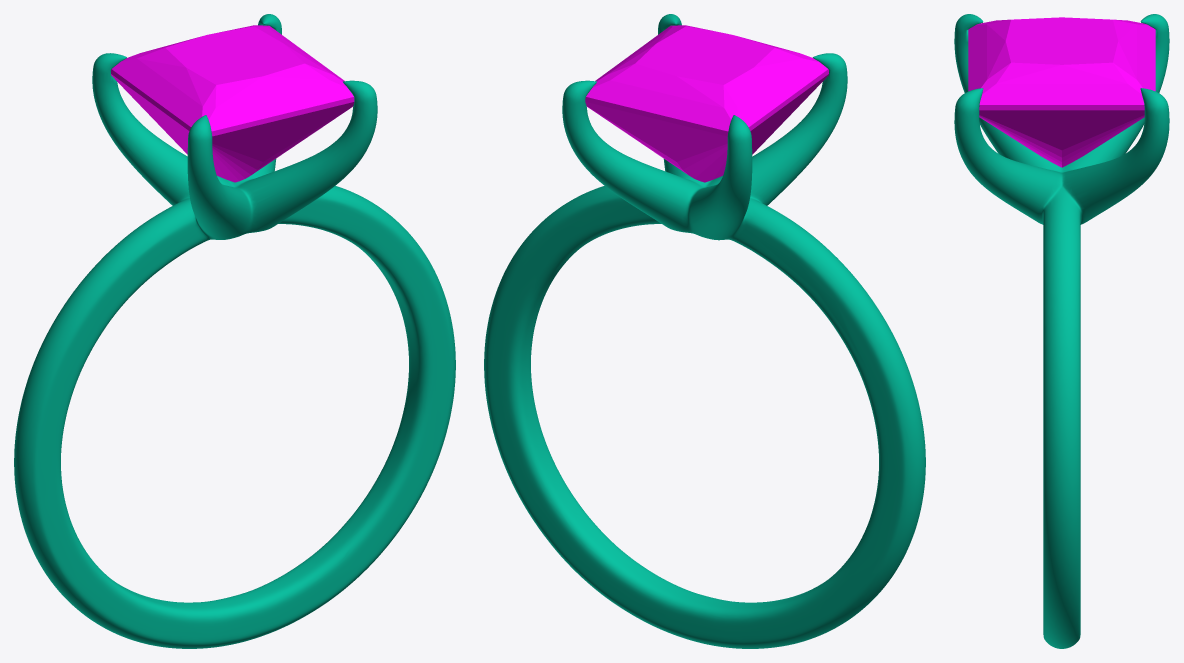
The model's file is BE1FM199_PR_200ct_RENDER.glb.
The picture shows the model from 3 angles, left to right: view 1: azimuth 30°, elevation 25°; view 2: azimuth 150°, elevation 25°; view 3: azimuth 270°, elevation 25°; orthographic projection.
Visible parts, largest first — view 1: Metal 01, CS_Diamond_Princess; view 2: Metal 01, CS_Diamond_Princess; view 3: Metal 01, CS_Diamond_Princess.
Boxes of the visible parts, x1,y1,x2,y2 form: Metal 01: (14,14,455,648); CS_Diamond_Princess: (111,25,354,182); Metal 01: (484,14,925,648); CS_Diamond_Princess: (585,25,828,182); Metal 01: (954,14,1169,648); CS_Diamond_Princess: (968,17,1155,167).
Bounding box in the file's own units: 20.09 × 25.78 × 8.6.
